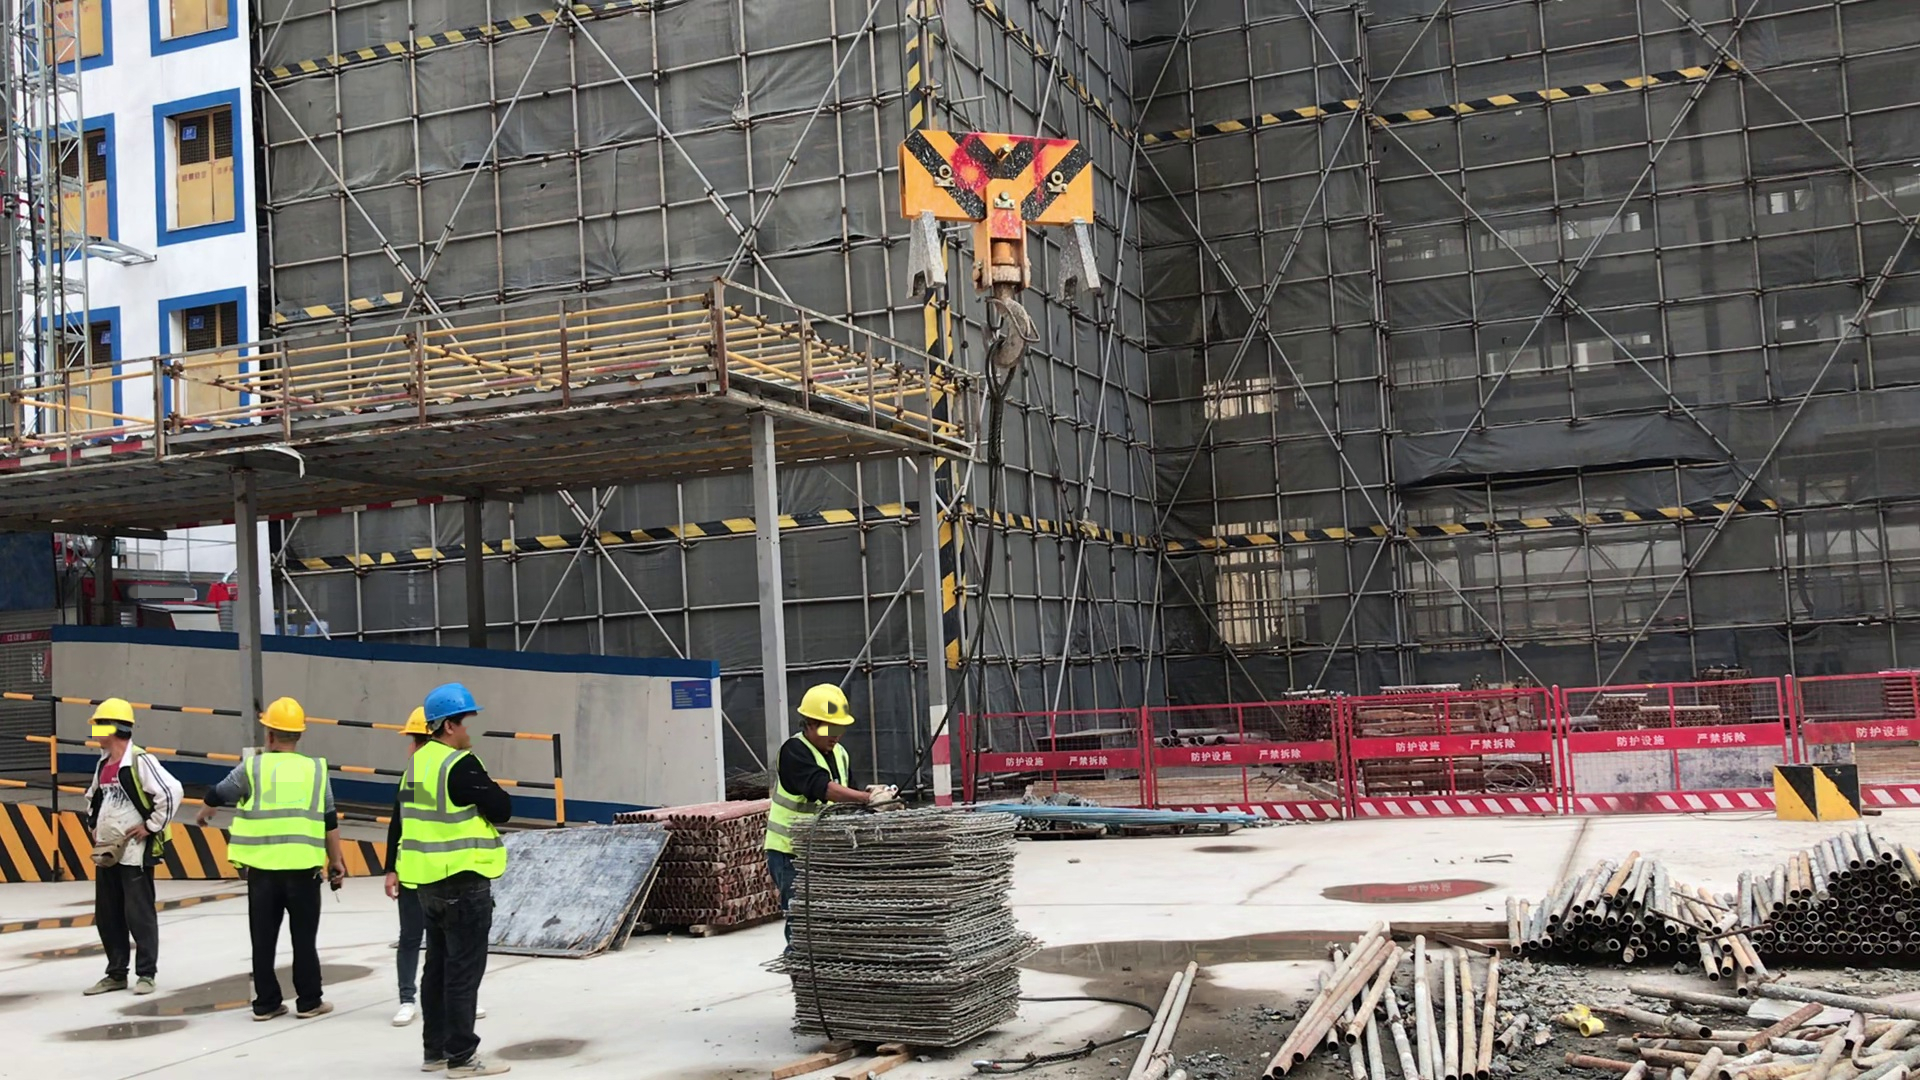fence: (946, 689, 1920, 830)
helmet: (84, 678, 145, 742), (792, 668, 851, 733), (431, 682, 487, 728), (261, 698, 319, 737), (401, 700, 430, 736)
hook: (891, 91, 1130, 317)
person: (230, 688, 351, 1016), (405, 690, 502, 1063), (88, 706, 193, 1006), (771, 657, 871, 857), (391, 701, 419, 1029)
scaffold: (1533, 831, 1920, 979), (624, 799, 780, 933)
vest: (238, 747, 343, 885), (768, 739, 862, 855), (418, 752, 495, 883)
